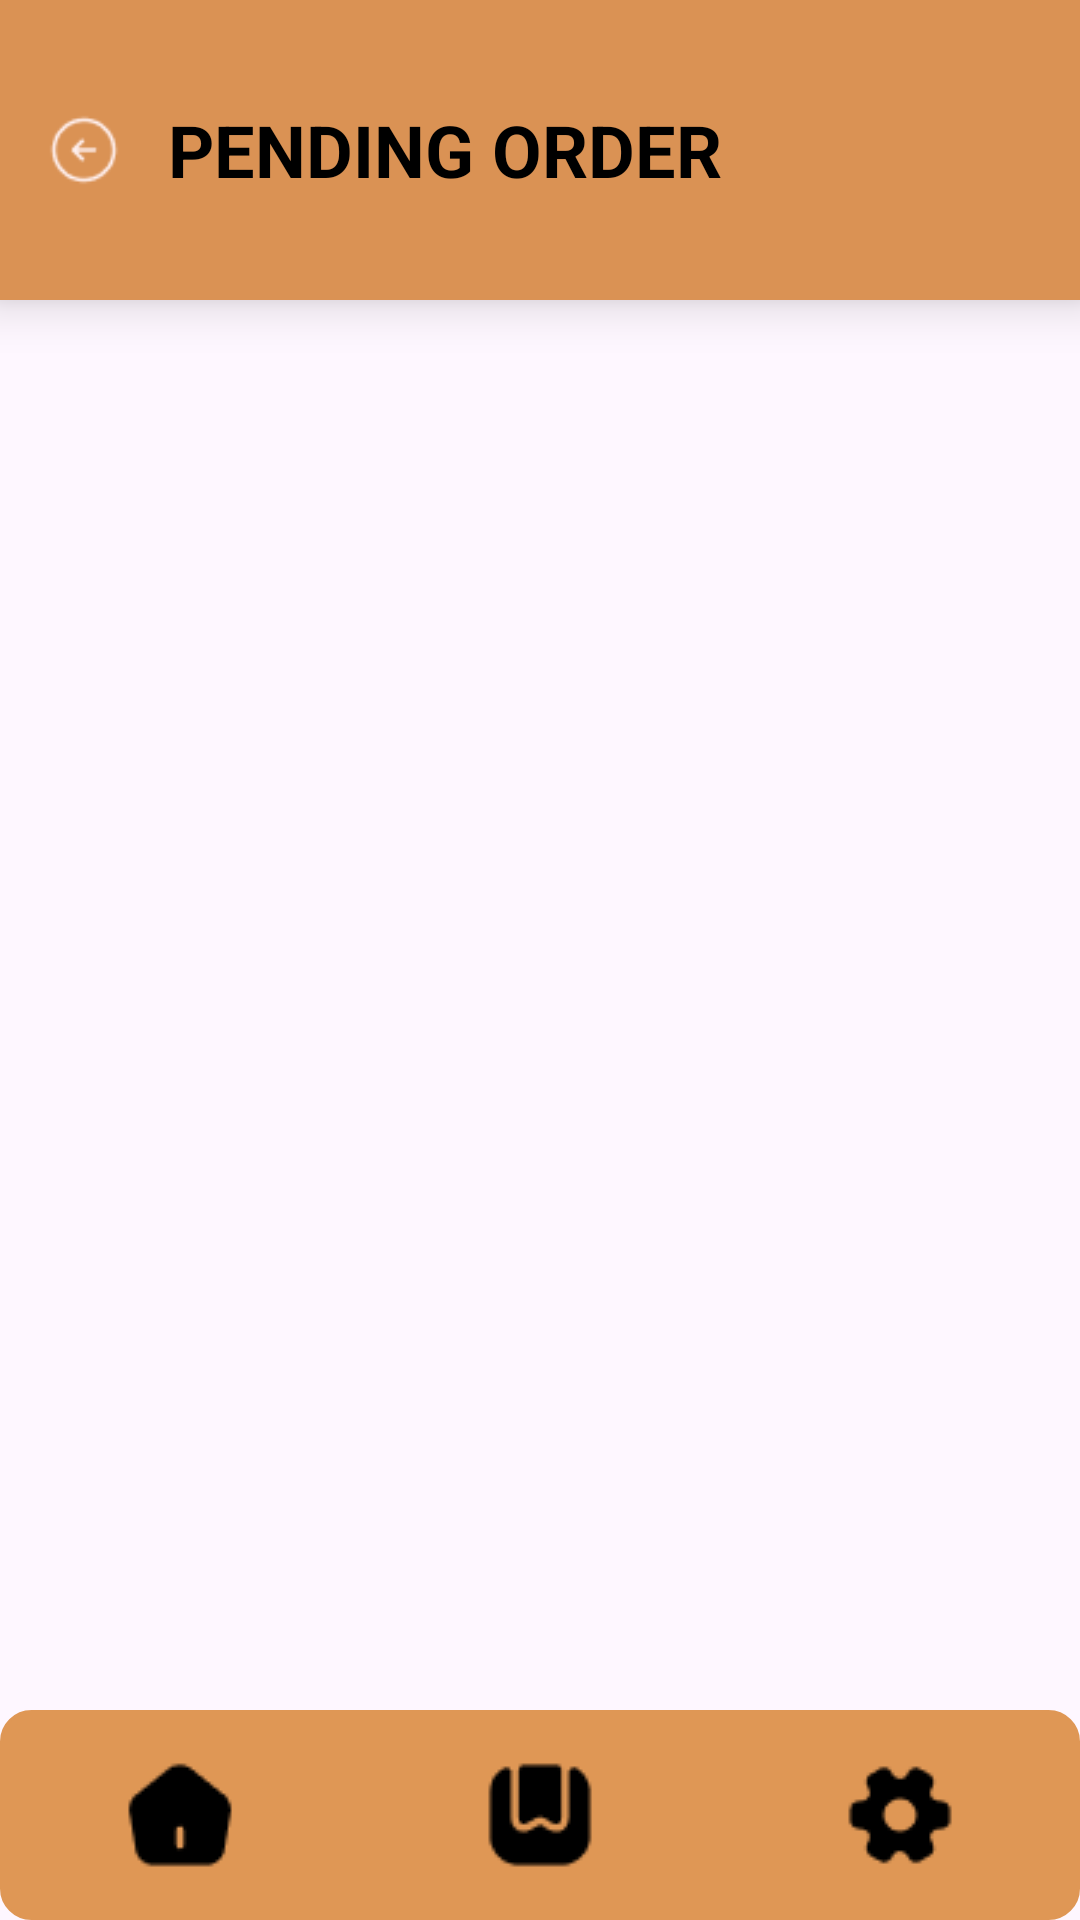

Screen size 1080*1920. Icon name, then its center in pixels as point (x, y):
Back: point (84, 150)
book: point (540, 1815)
home: point (180, 1815)
settings: point (900, 1815)
